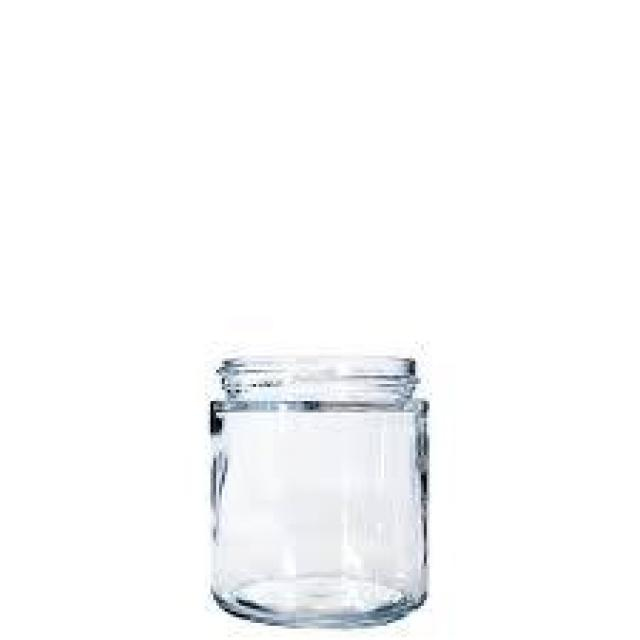non-organic waste: (203, 348, 431, 633)
